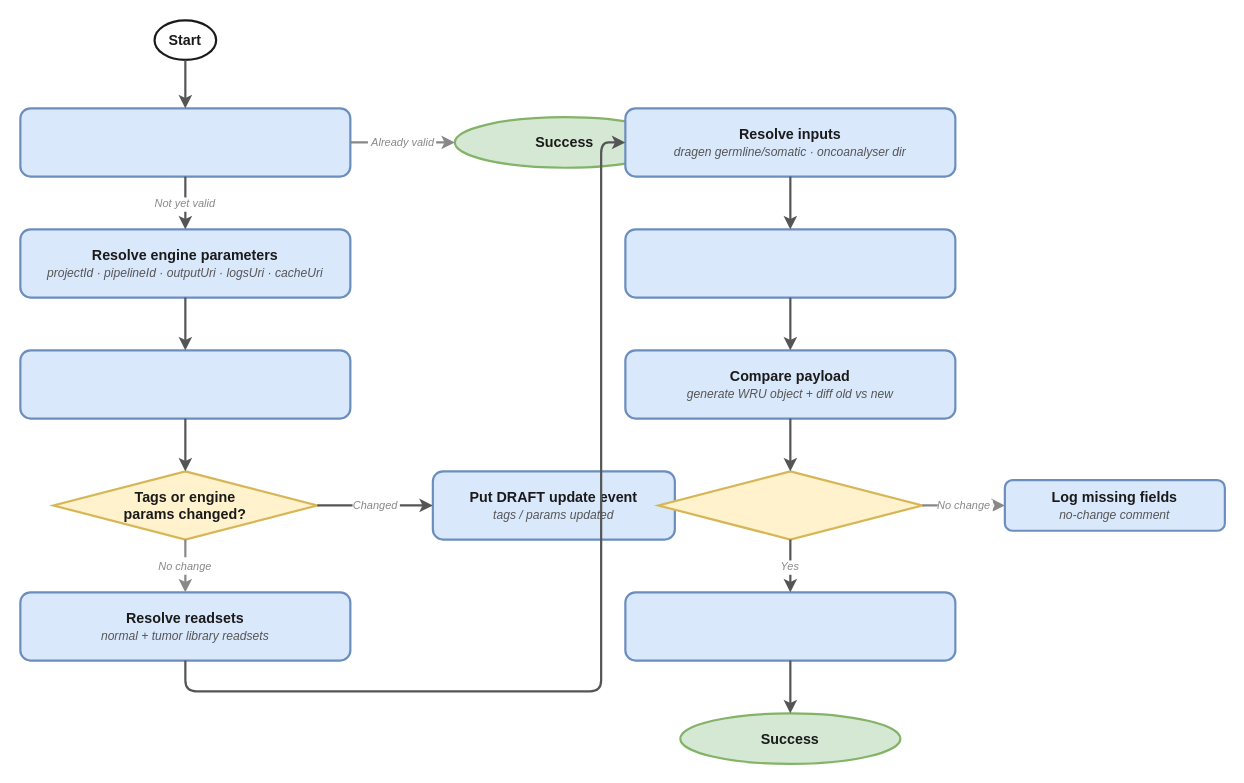
Image size: 1244x783. Some labels were removed from this diagram. Each missing label, with the centre of its shape:
"Add reference data sash refDataPath" belongs at (790,263).
"Payload changed?" belongs at (790,505).
"Put DRAFT update event fully populated payload" belongs at (790,626).
"Resolve library tags fastqRgidList · tumorFastqRgidList · metadata" belongs at (185,384).
"Validate draft data" belongs at (185,142).
